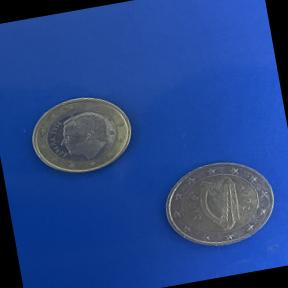coin: (152, 148, 288, 258), (18, 83, 144, 187)
